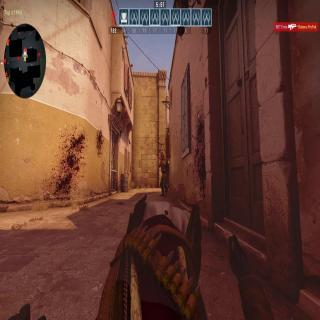CT-Body: (159, 152, 168, 198)
CT-Head: (160, 154, 164, 160)
